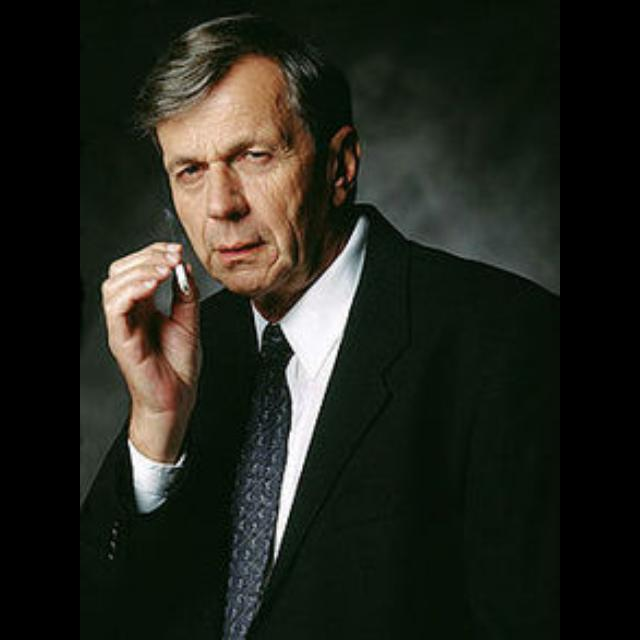rokok: (172, 258, 194, 294)
